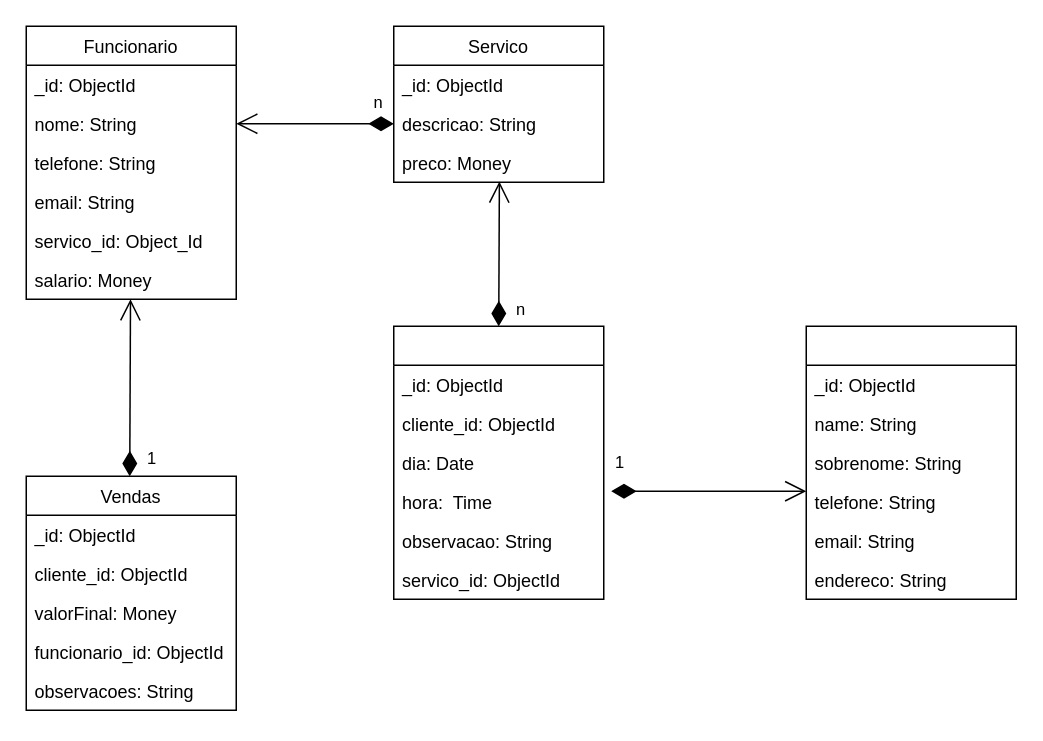
The diagram is 1043 pixels wide and 741 high, and some of its shapes have lost their labels. The shapes that lost their labels are listed below. From the top down, each one's box as (x1, y1, x2, y2) in pixels, then its label:
(392, 325, 604, 599): Agendamentos
(805, 325, 1016, 599): Cliente
